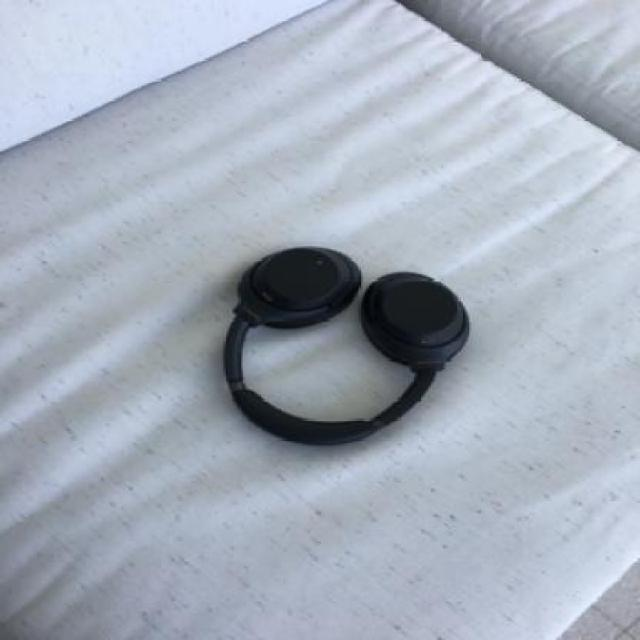earphone: (213, 163, 452, 480)
